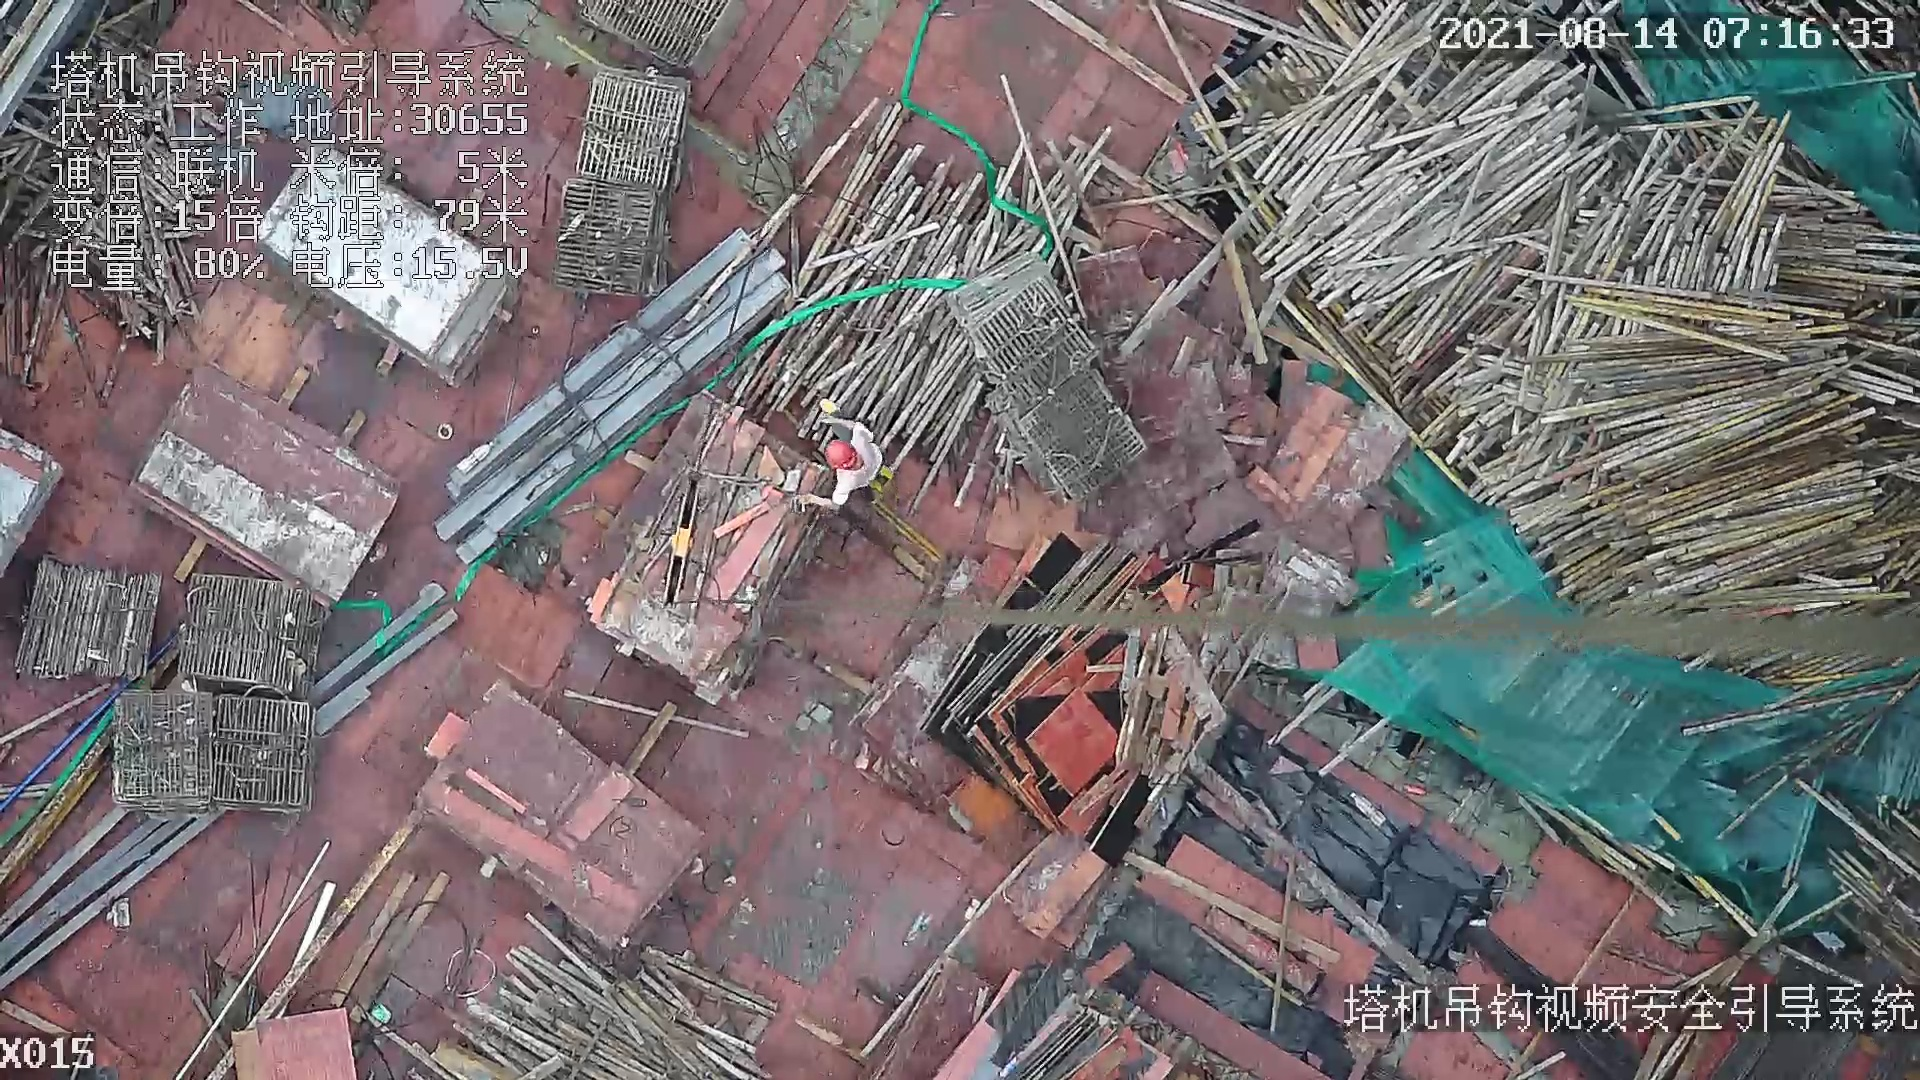helmet: (818, 434, 859, 475)
hook: (660, 469, 699, 605)
person: (785, 396, 886, 513)
